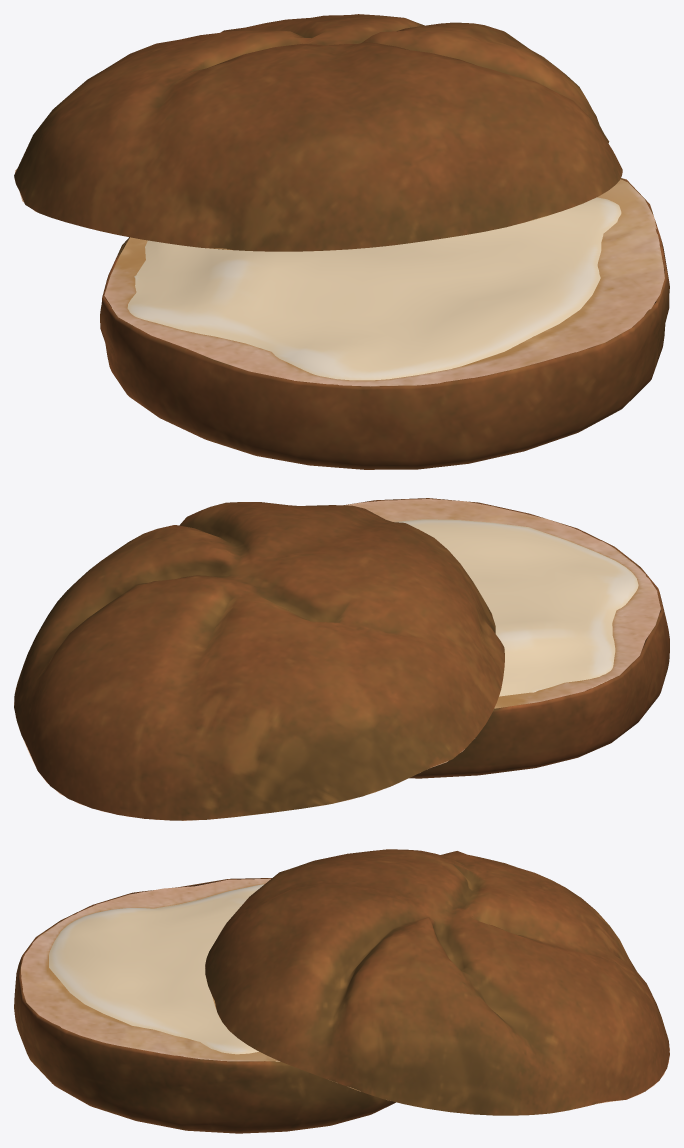
File: SM_BreadCreamSliced.fbx
The picture shows the model from 3 angles, top to bottom: view 1: azimuth 30°, elevation 25°; view 2: azimuth 150°, elevation 25°; view 3: azimuth 270°, elevation 25°; orthographic projection. The views are drawn at different scales.
Parts seen in each view (by area): view 1: SM_BreadCreamSliced_LOD0; view 2: SM_BreadCreamSliced_LOD0; view 3: SM_BreadCreamSliced_LOD0.
Boxes of the visible parts, bbox=[...] form: SM_BreadCreamSliced_LOD0: bbox=[14, 14, 669, 469]; SM_BreadCreamSliced_LOD0: bbox=[14, 498, 669, 820]; SM_BreadCreamSliced_LOD0: bbox=[14, 849, 669, 1133].
Size of the model in its own units: 22.96 by 28.92 by 9.28.
Materials: 1 (1 with a texture image).
